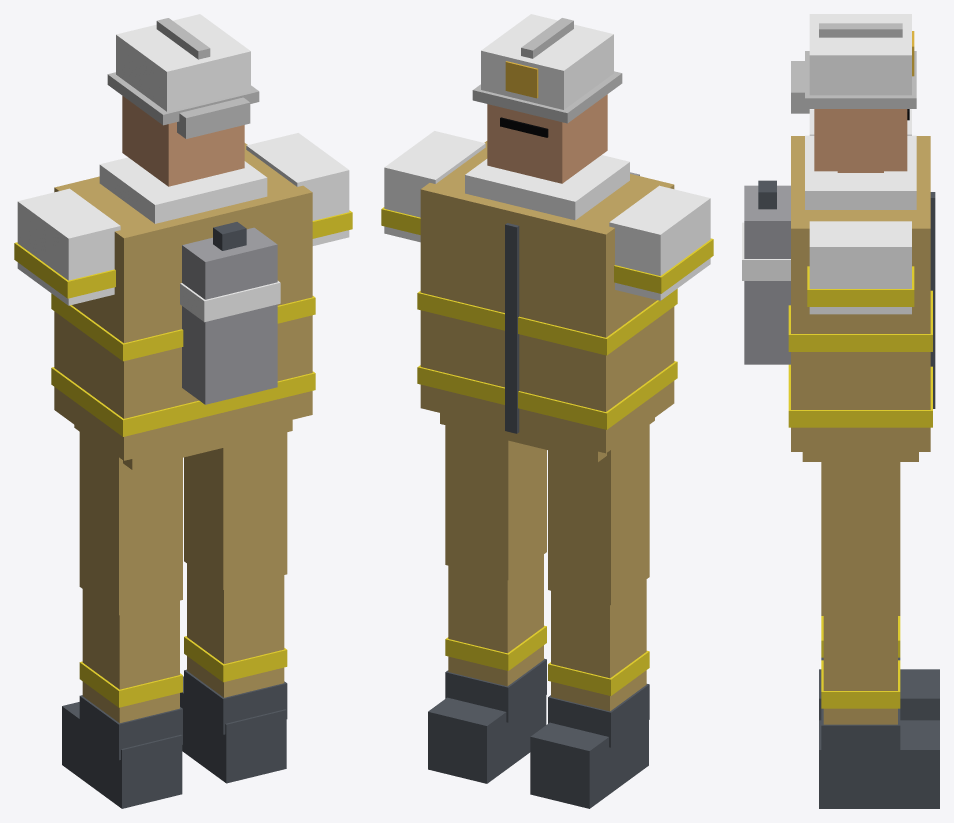
File: FIREFIGHTER.gltf
3 views of the same model, side by side, from view 1: azimuth 30°, elevation 25°; view 2: azimuth 150°, elevation 25°; view 3: azimuth 270°, elevation 25° (orthographic). The views are drawn at different scales.
Parts seen in each view (by area): view 1: FIREFIGHTER; view 2: FIREFIGHTER; view 3: FIREFIGHTER.
Part boxes in pixels (box(x1,y1,x2,y2)): FIREFIGHTER: box(14, 14, 352, 808); FIREFIGHTER: box(381, 14, 713, 808); FIREFIGHTER: box(742, 14, 939, 808).
Bounding box in the file's own units: 0.71 × 1.76 × 0.425.
